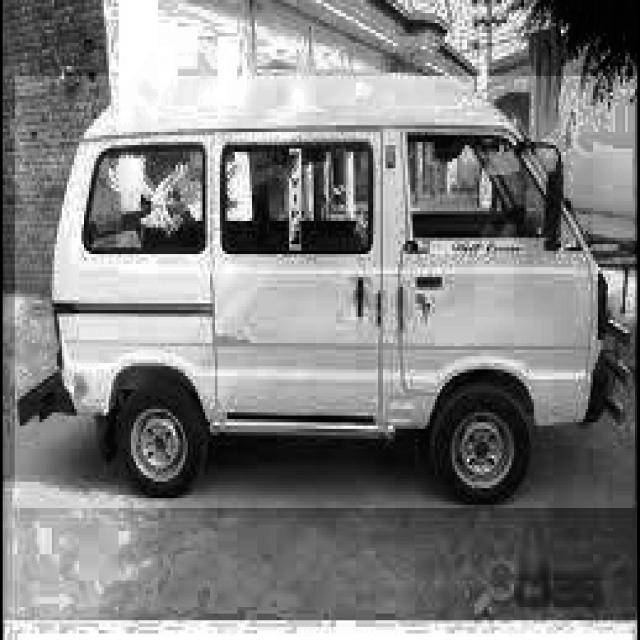LCV: (15, 76, 637, 511)
